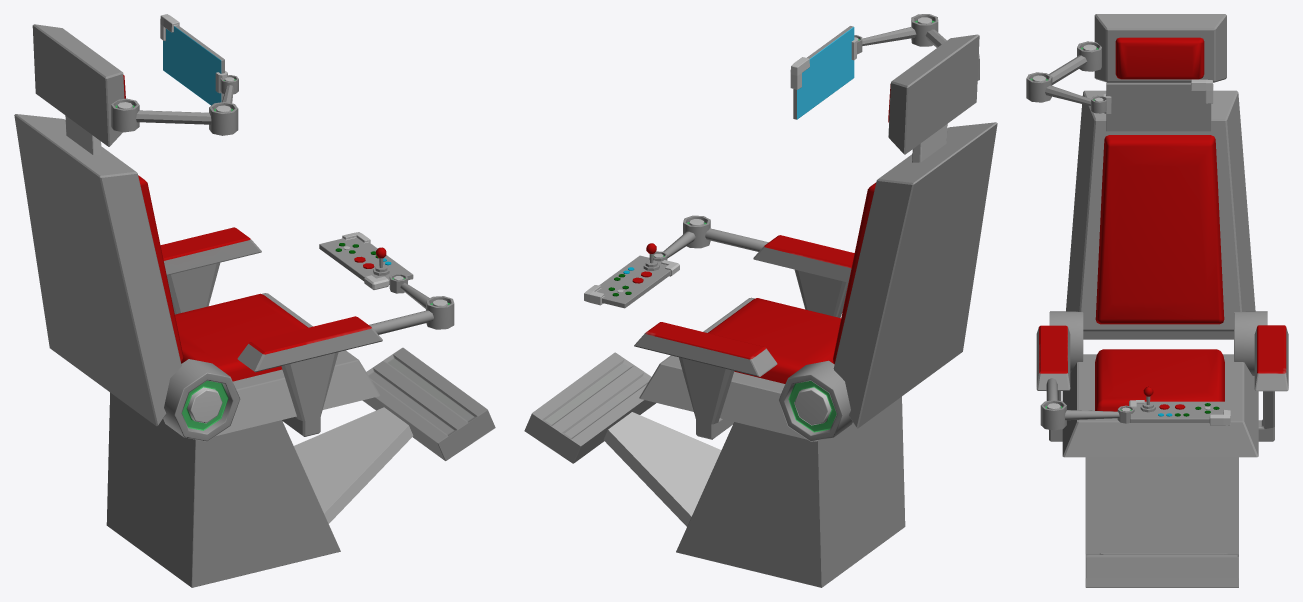
File: SM_Chair_03.fbx
3 renders of one model, left to right at view 1: azimuth 30°, elevation 25°; view 2: azimuth 150°, elevation 25°; view 3: azimuth 270°, elevation 25°, orthographic. The views are drawn at different scales.
Visible parts, largest first — view 1: SM_Chair_03; view 2: SM_Chair_03; view 3: SM_Chair_03.
Boxes of the visible parts, box(x1,y1,x2,y2) form: SM_Chair_03: box(14, 14, 495, 587); SM_Chair_03: box(524, 14, 997, 587); SM_Chair_03: box(1026, 14, 1288, 587).
Size of the model in its own units: 132 by 83.76 by 167.
